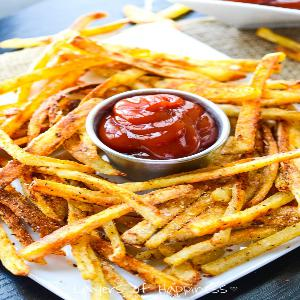fries: (47, 167, 290, 295)
